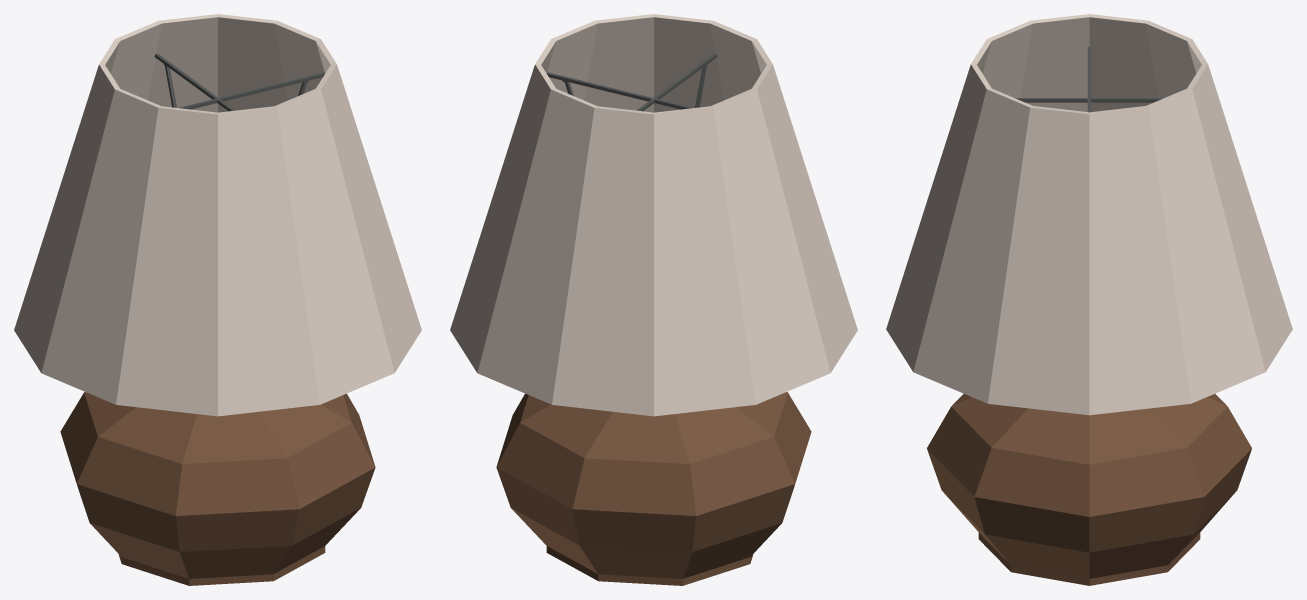
File: SM_Props_Interior_House_Room_Lamp_02.fbx
3 renders of one model, left to right at view 1: azimuth 30°, elevation 25°; view 2: azimuth 150°, elevation 25°; view 3: azimuth 270°, elevation 25°, orthographic.
Parts seen in each view (by area): view 1: SM_Props_Interior_House_Room_Lamp_02; view 2: SM_Props_Interior_House_Room_Lamp_02; view 3: SM_Props_Interior_House_Room_Lamp_02.
Part boxes in pixels (x1,y1,x2,y2): SM_Props_Interior_House_Room_Lamp_02: (14, 14, 421, 585); SM_Props_Interior_House_Room_Lamp_02: (450, 14, 857, 585); SM_Props_Interior_House_Room_Lamp_02: (886, 14, 1292, 585).
Bounding box in the file's own units: 26.4 × 34.01 × 26.4.
